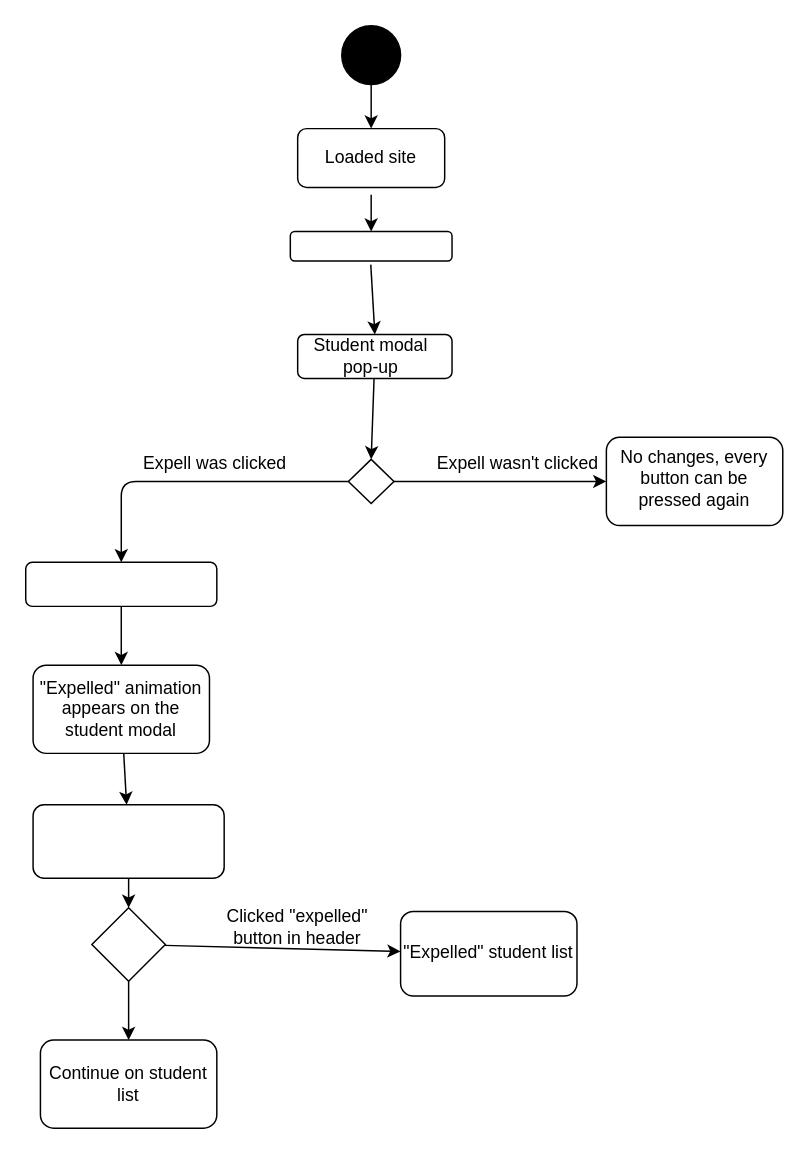
Image size: 809x1154. Some labels were removed from this diagram. Each missing label, with the centre of its shape:
Click on student: point (370, 245)
Exit the modal pop-up: point (128, 840)
Student removed from list: point (120, 583)
